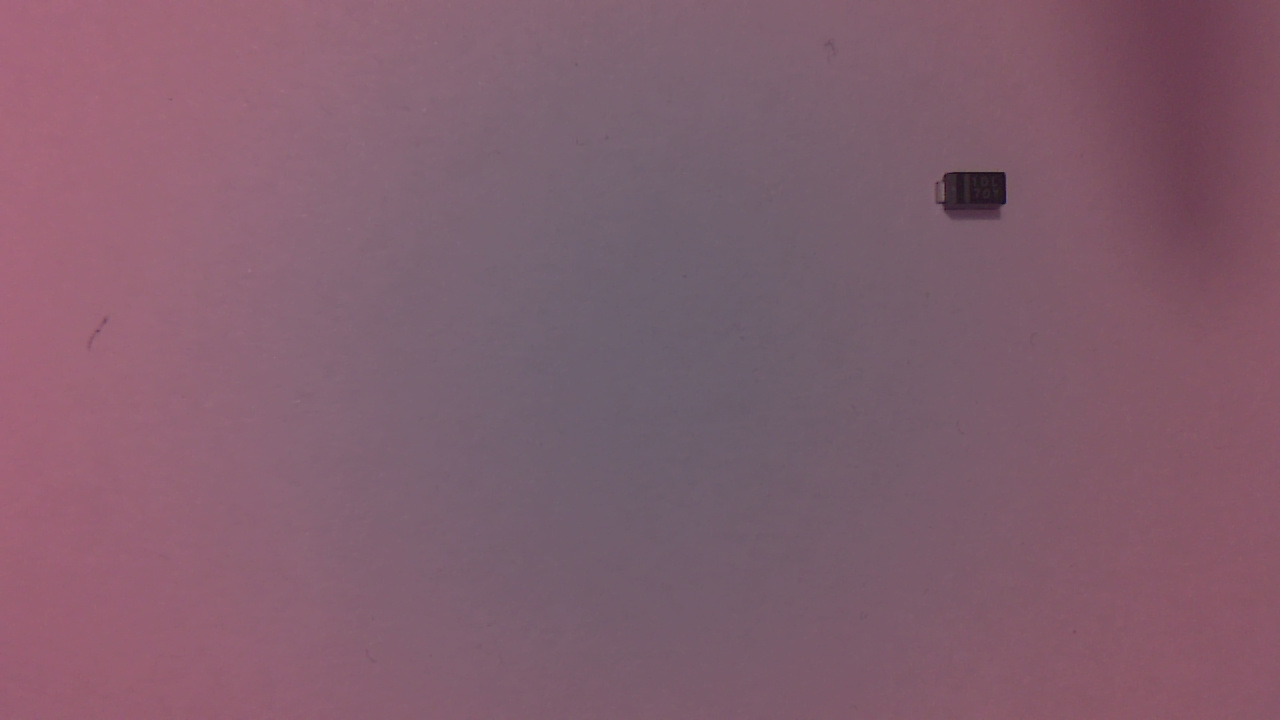Diode: (940, 168, 1016, 221)
